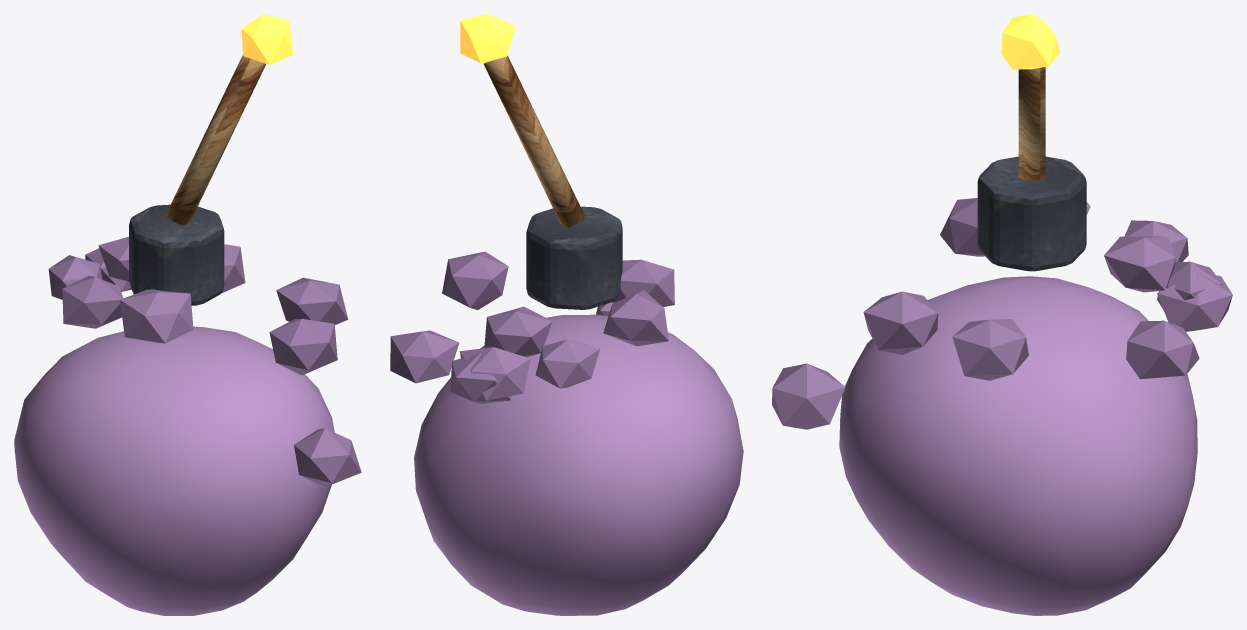
Rendered from spore_bomb.glb.
The picture shows the model from 3 angles, left to right: view 1: azimuth 30°, elevation 25°; view 2: azimuth 150°, elevation 25°; view 3: azimuth 270°, elevation 25°; orthographic projection. The views are drawn at different scales.
Parts seen in each view (by area): view 1: model; view 2: model; view 3: model.
Boxes of the visible parts, x1,y1,x2,y2 form: model: (14, 14, 361, 615); model: (390, 14, 743, 615); model: (772, 14, 1232, 615).
Bounding box in the file's own units: 0.1316 × 0.247 × 0.1632.
5 materials, 2 textured.
